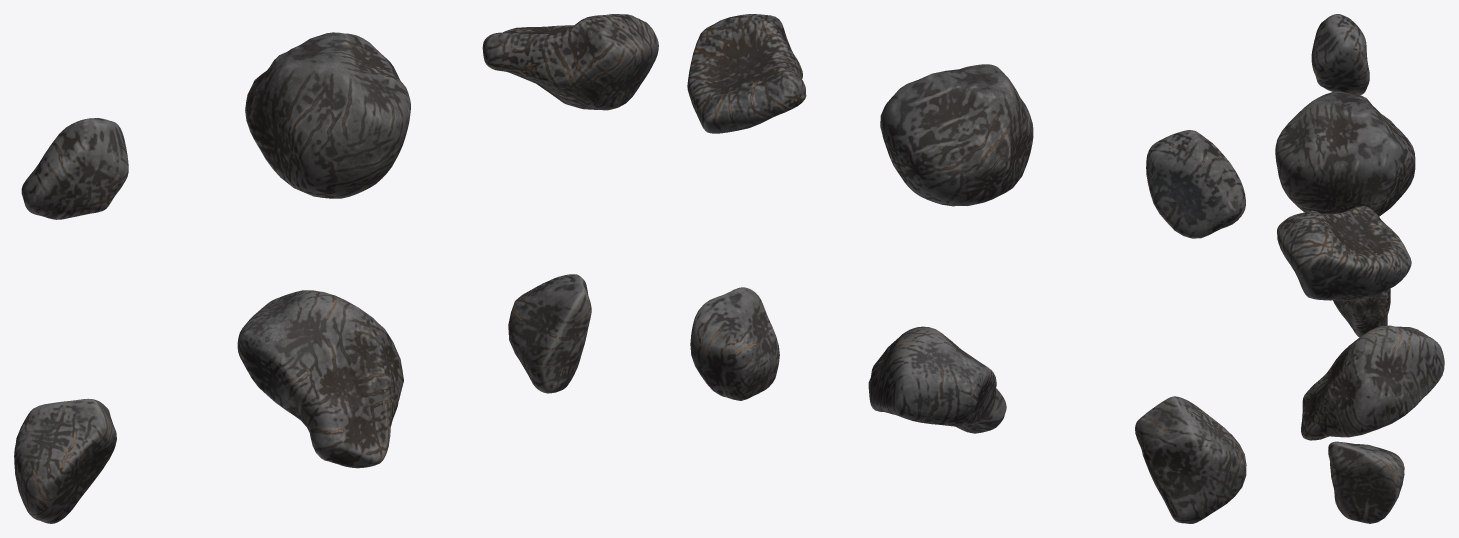
Rendered from Asteroid_2f_small.glb.
3 views of the same model, side by side, from view 1: azimuth 30°, elevation 25°; view 2: azimuth 150°, elevation 25°; view 3: azimuth 270°, elevation 25° (orthographic). The views are drawn at different scales.
Parts seen in each view (by area): view 1: Asteroid_2f5, Asteroid_2f2, Asteroid_2f6, Asteroid_2f1, Asteroid_2f4, Asteroid_2f3; view 2: Asteroid_2f5, Asteroid_2f6, Asteroid_2f2, Asteroid_2f1, Asteroid_2f4, Asteroid_2f3; view 3: Asteroid_2f5, Asteroid_2f2, Asteroid_2f6, Asteroid_2f3, Asteroid_2f4, Asteroid_2f1.
Part boxes in pixels (<box>): Asteroid_2f5: <box>245,32,410,198</box>; Asteroid_2f2: <box>237,290,403,468</box>; Asteroid_2f6: <box>482,14,658,110</box>; Asteroid_2f1: <box>14,398,116,523</box>; Asteroid_2f4: <box>21,118,128,219</box>; Asteroid_2f3: <box>508,274,591,393</box>; Asteroid_2f5: <box>880,64,1033,206</box>; Asteroid_2f6: <box>687,14,806,133</box>; Asteroid_2f2: <box>868,326,1006,433</box>; Asteroid_2f1: <box>1135,396,1246,523</box>; Asteroid_2f4: <box>1146,130,1245,238</box>; Asteroid_2f3: <box>690,287,779,400</box>; Asteroid_2f5: <box>1275,91,1415,216</box>; Asteroid_2f2: <box>1301,325,1444,440</box>; Asteroid_2f6: <box>1277,206,1411,300</box>; Asteroid_2f3: <box>1328,441,1404,523</box>; Asteroid_2f4: <box>1311,14,1369,94</box>; Asteroid_2f1: <box>1333,288,1390,337</box>.
Size of the model in its own units: 3.11 by 2.06 by 0.9307.
Materials: 1 (1 with a texture image).
